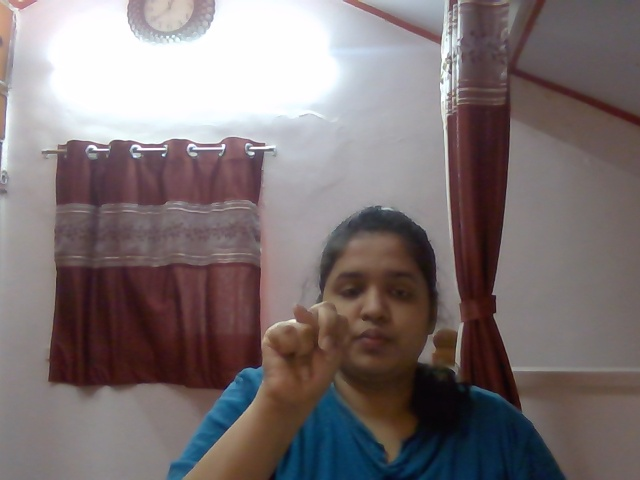n: (248, 301, 355, 409)
